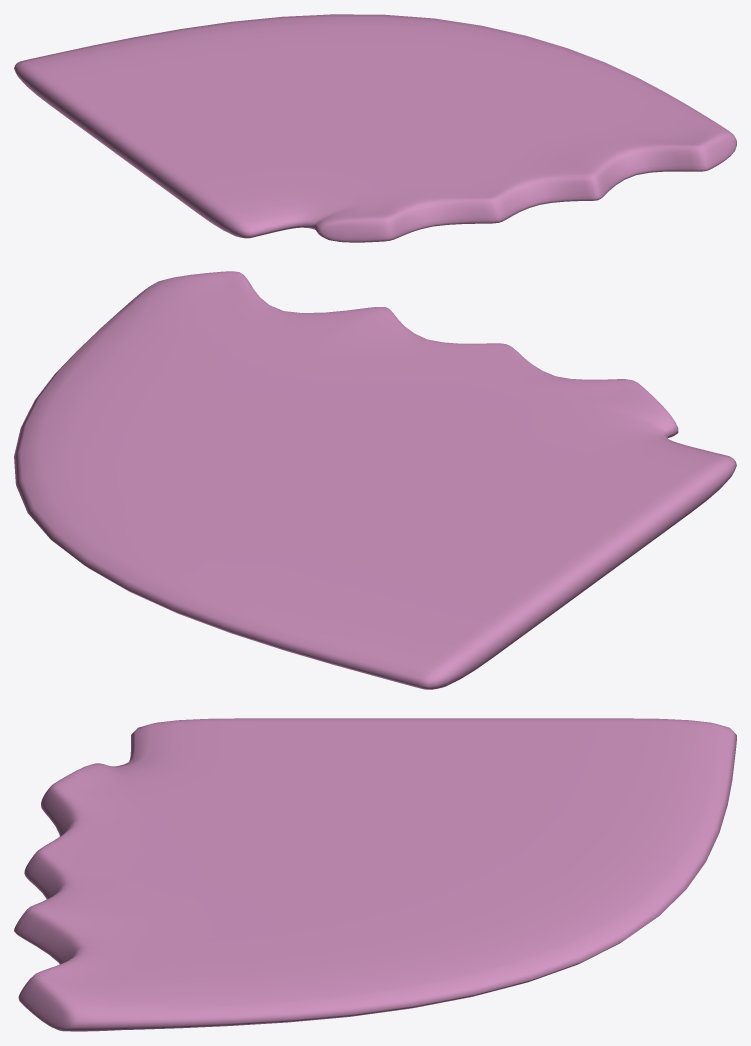
File: CapePieceTurn_TornFront.fbx
3 renders of one model, top to bottom at view 1: azimuth 30°, elevation 25°; view 2: azimuth 150°, elevation 25°; view 3: azimuth 270°, elevation 25°, orthographic. The views are drawn at different scales.
Parts seen in each view (by area): view 1: CapePieceTurn_TornFront; view 2: CapePieceTurn_TornFront; view 3: CapePieceTurn_TornFront.
Part boxes in pixels (left/top/right/bottom): CapePieceTurn_TornFront: left=14, top=14, right=736, bottom=242; CapePieceTurn_TornFront: left=14, top=271, right=736, bottom=689; CapePieceTurn_TornFront: left=14, top=718, right=736, bottom=1031.
Size of the model in its own units: 0.9107 by 0.0479 by 0.9272.
